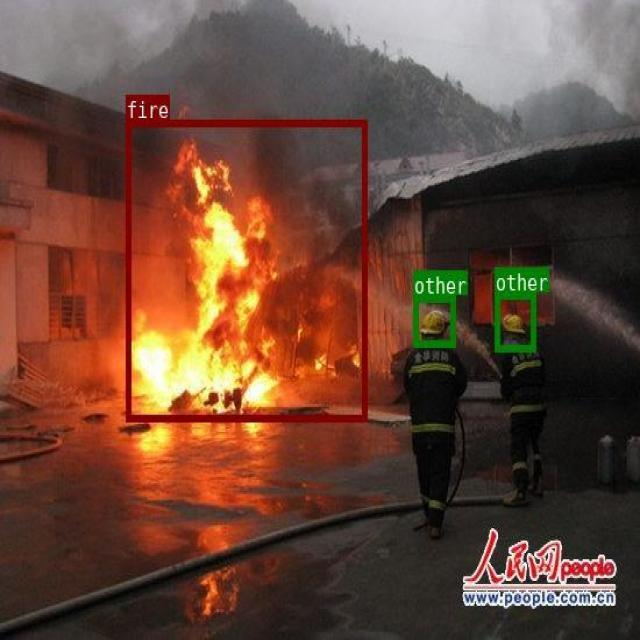fire: (125, 119, 366, 420)
